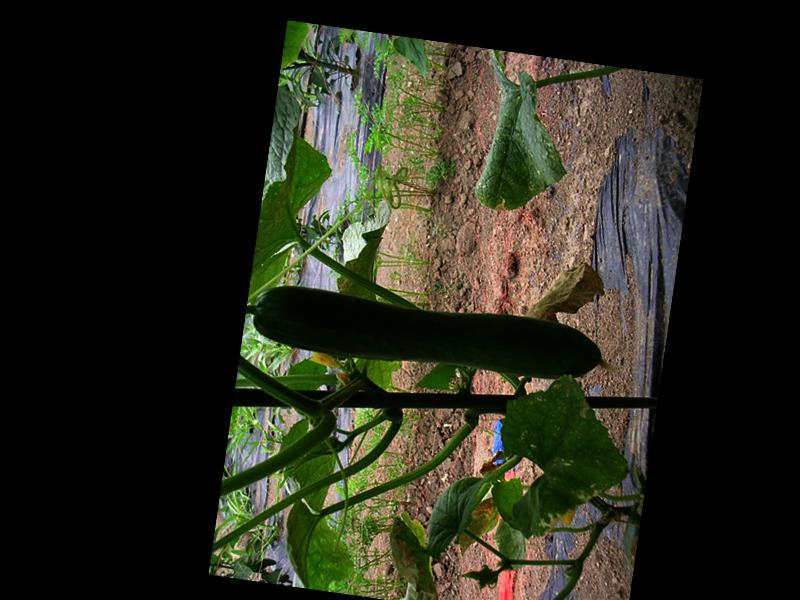Cucumber: (249, 279, 614, 394)
